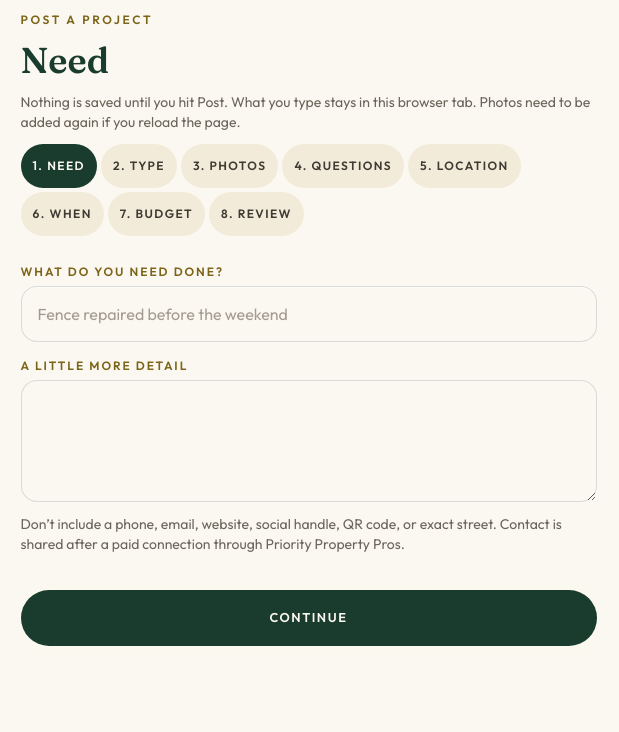
post-a-project wizard › prefills the location step from the address on file
Type "Fence repair" into the field labelled "What do you need done?" at (308, 314), box [20,286,596,342]
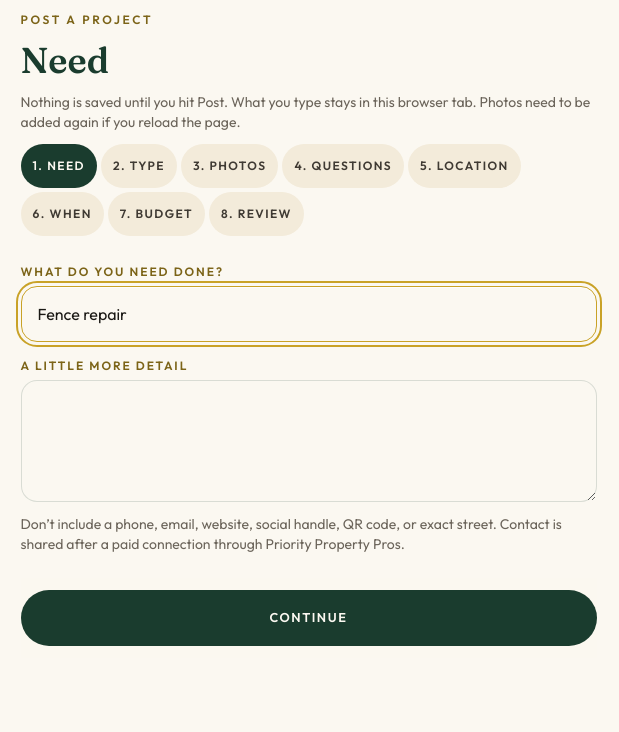
Click the button "Continue" at (308, 618), box [20,590,596,646]
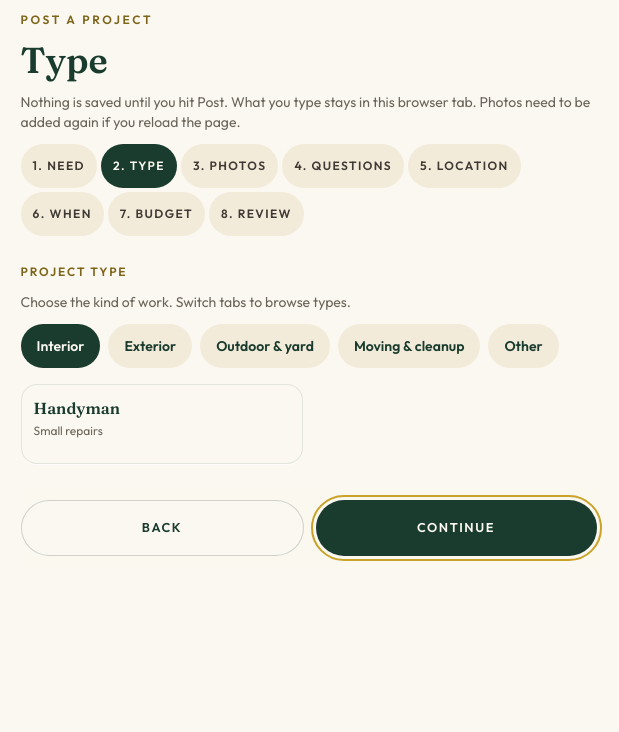
Click the radio button labelled "Handyman Small repairs" at (77, 408), box [20,384,302,464]
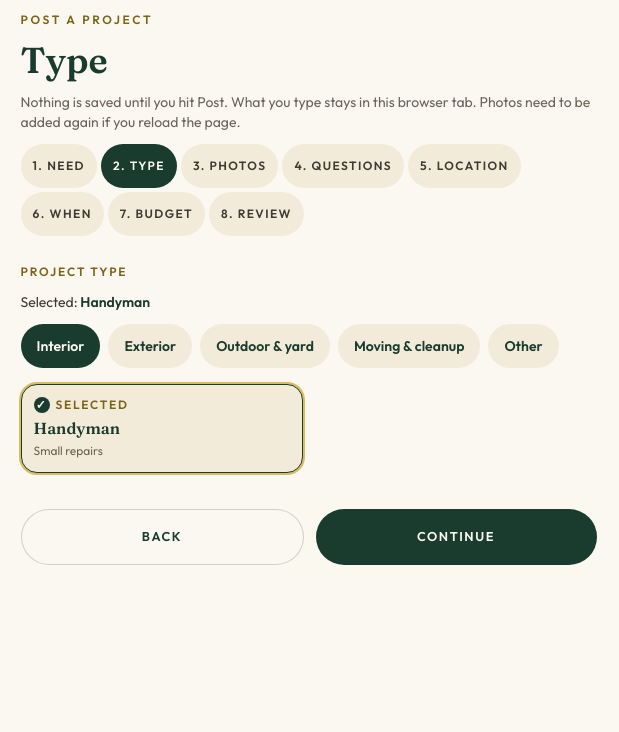
Click the button "Continue" at (456, 536), box [316,508,596,564]
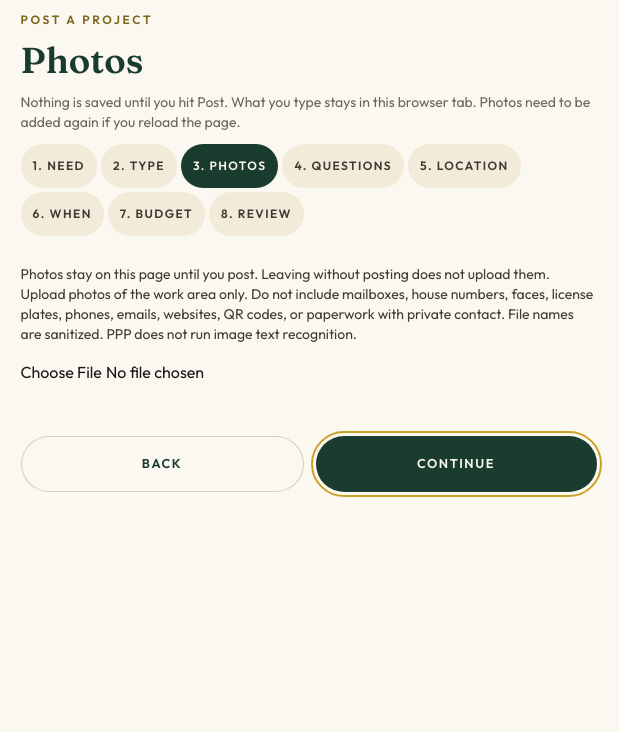
Click the button "Continue" at (456, 464), box [316,436,596,492]
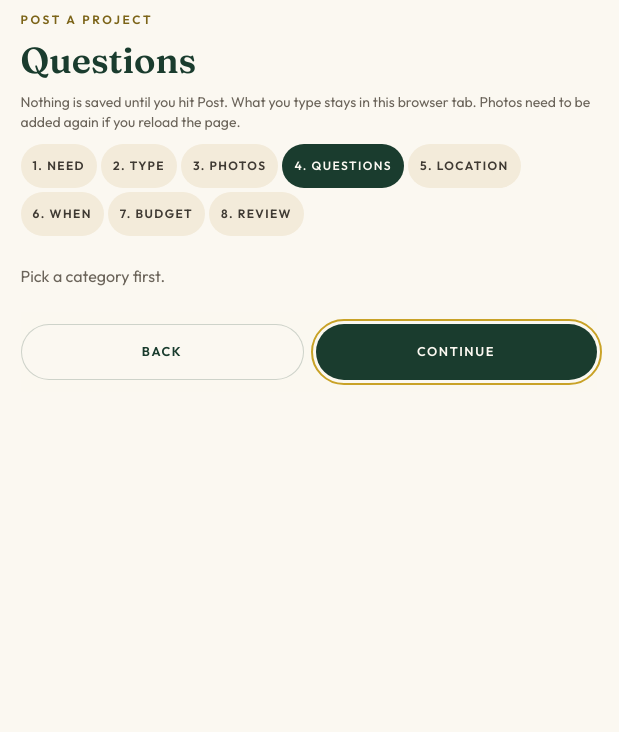
Click the button "Continue" at (456, 352), box [316,324,596,380]
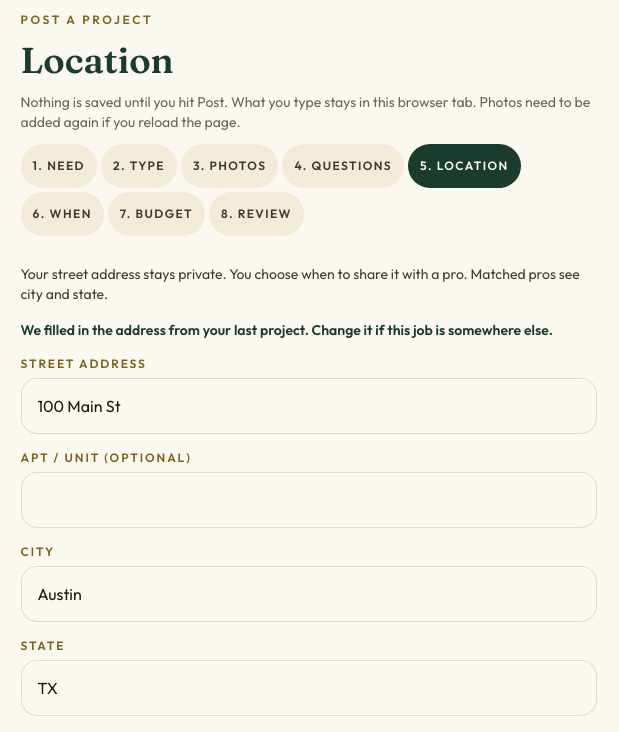
Check: the field labelled "City" holds "Austin", box [20,566,596,622]
Check: the field labelled "State" holds "TX", box [20,660,596,716]
Check: the field labelled "Street address" holds "100 Main St", box [20,378,596,434]
